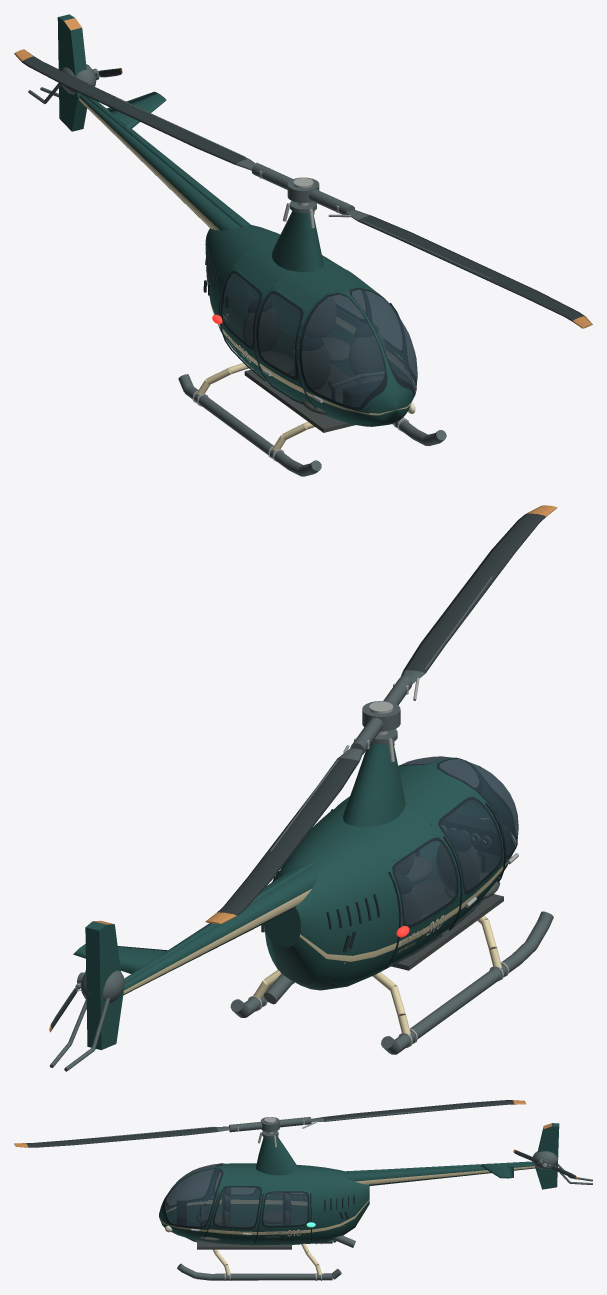
File: GARAM.glb
3 renders of one model, top to bottom at view 1: azimuth 30°, elevation 25°; view 2: azimuth 150°, elevation 25°; view 3: azimuth 270°, elevation 25°, orthographic. The views are drawn at different scales.
Visible parts, largest first — view 1: Airframe, MainRotor; view 2: Airframe, MainRotor; view 3: Airframe, MainRotor, TailRotor.
Part boxes in pixels (<box>): Airframe: <box>28,14,446,476</box>; MainRotor: <box>14,49,592,328</box>; Airframe: <box>50,729,553,1071</box>; MainRotor: <box>205,505,557,923</box>; Airframe: <box>159,1123,592,1280</box>; MainRotor: <box>14,1100,526,1147</box>; TailRotor: <box>513,1149,577,1179</box>.
Size of the model in its own units: 2.19 by 3.04 by 11.2.
15 materials, 1 textured.
